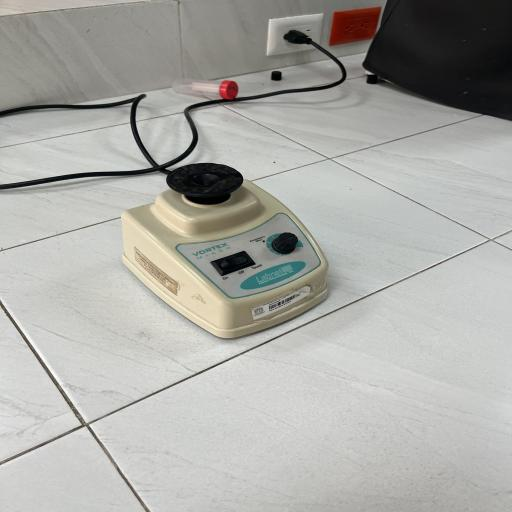Vortex_Mixer_LabNet: (105, 145, 361, 350)
